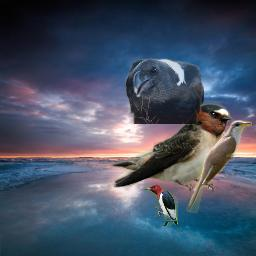Crow: (125, 58, 204, 124)
Cuckoo: (185, 120, 252, 213)
Swallow: (110, 100, 236, 193)
Woodpecker: (144, 184, 178, 226)
